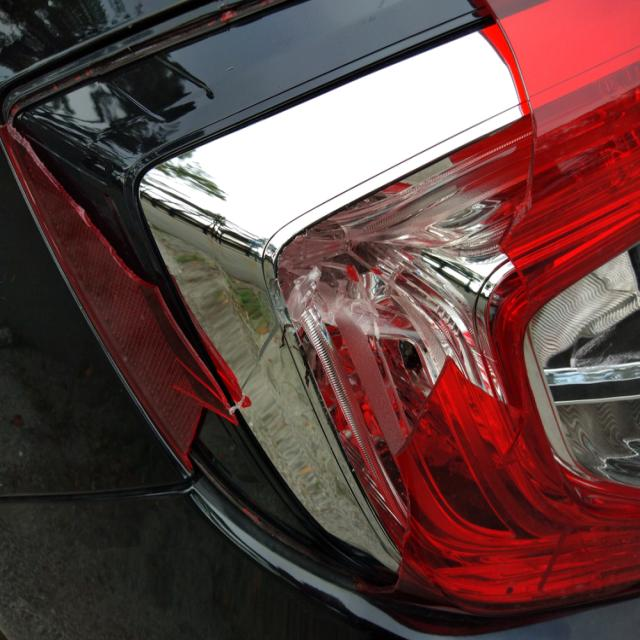lamp broken: (0, 0, 640, 634)
